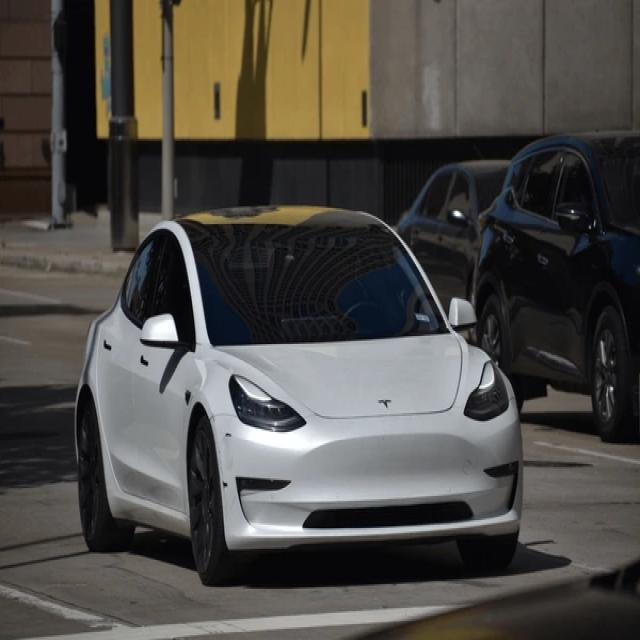tesla: (375, 386, 403, 416)
